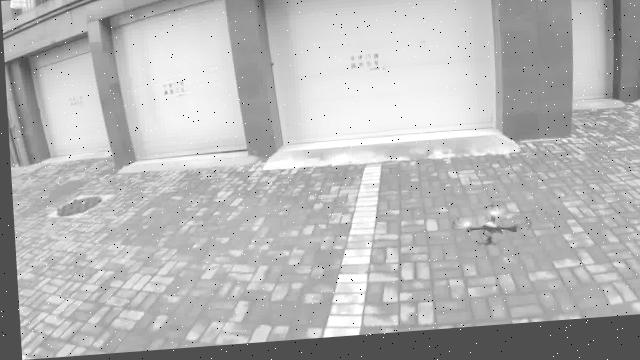drone: (441, 205, 535, 259)
